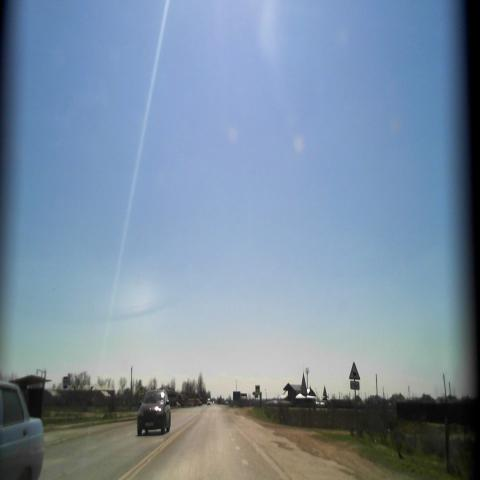1_26: (349, 359, 361, 381)
